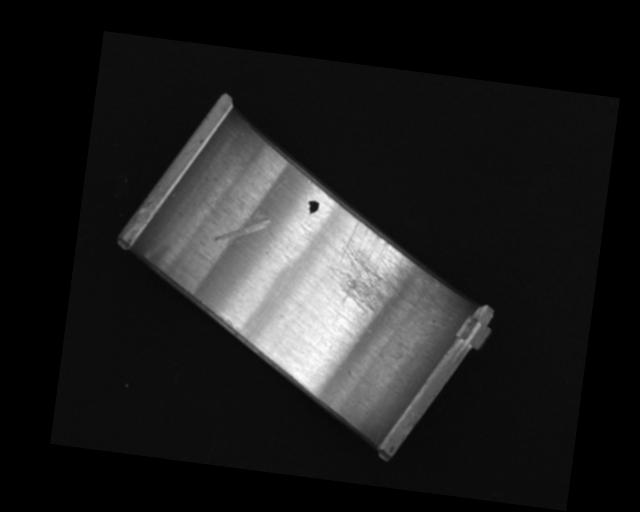blot: (307, 198, 320, 216)
nick: (213, 204, 272, 248), (261, 174, 291, 243)
scratch: (322, 215, 438, 322)
